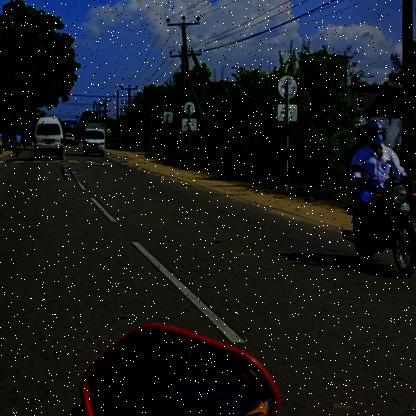motorcycle: (338, 177, 416, 285)
